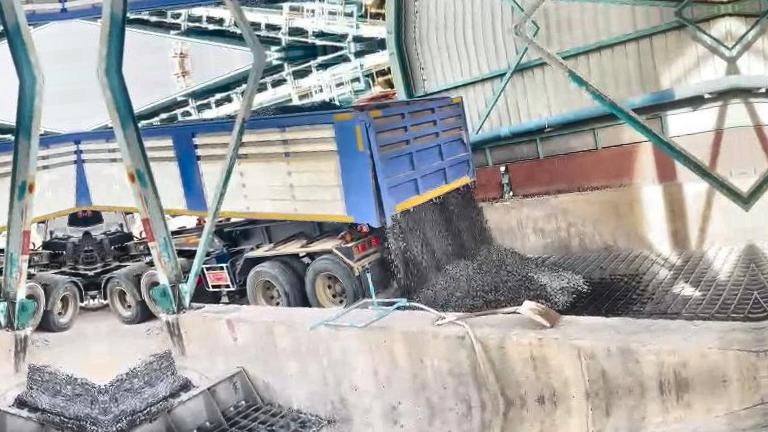gravel: (387, 189, 587, 310), (104, 351, 194, 432), (253, 100, 344, 117)
